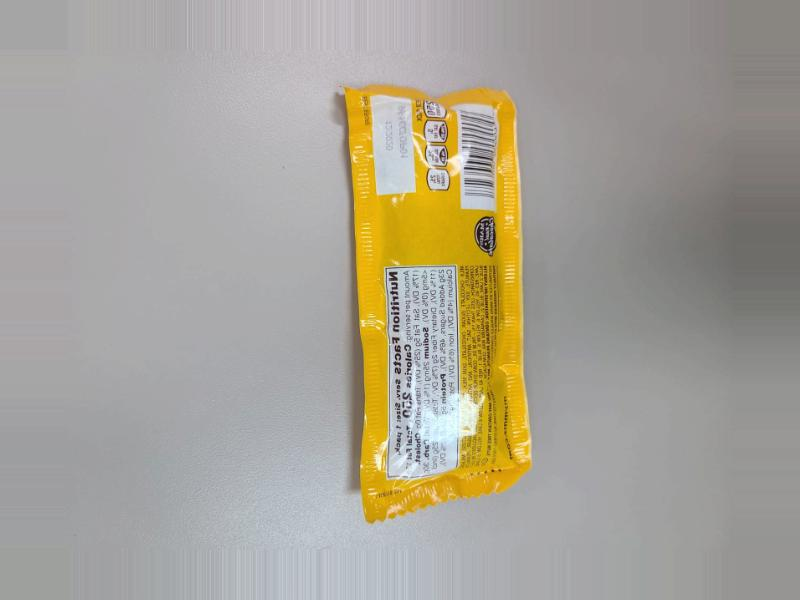m&m: (352, 70, 523, 510)
